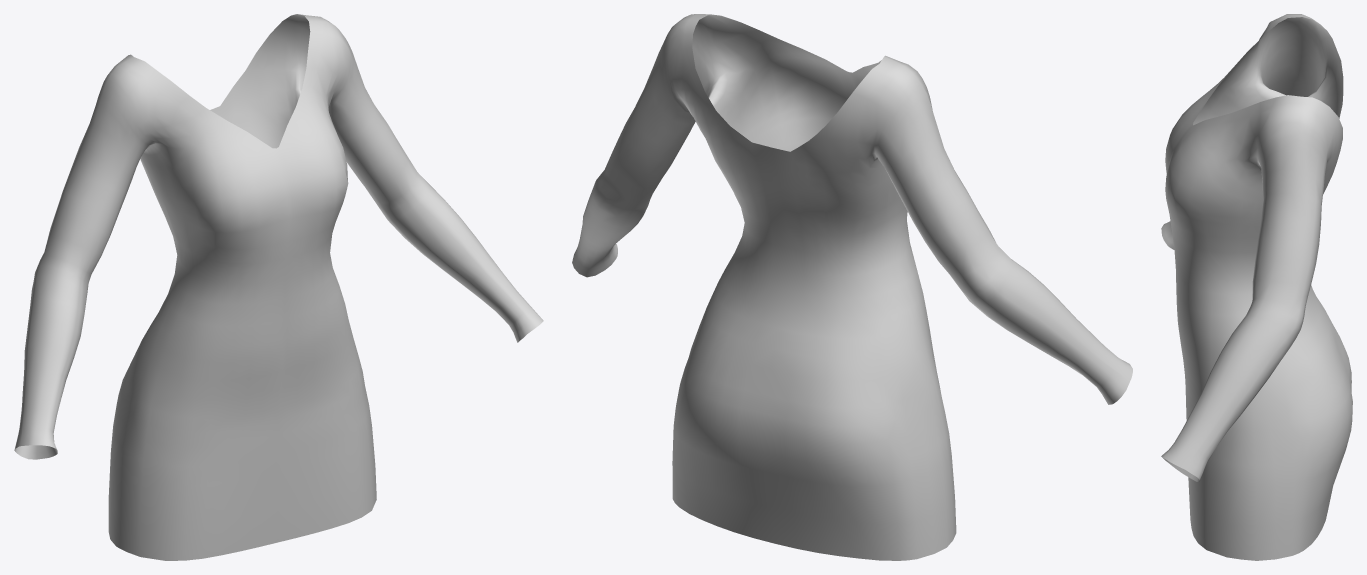
Rendered from F_BBB_CUSTOM_D001.glb.
The picture shows the model from 3 angles, left to right: view 1: azimuth 30°, elevation 25°; view 2: azimuth 150°, elevation 25°; view 3: azimuth 270°, elevation 25°; orthographic projection. The views are drawn at different scales.
Visible parts, largest first — view 1: F_BBB_CUSTOM_D001; view 2: F_BBB_CUSTOM_D001; view 3: F_BBB_CUSTOM_D001.
Boxes of the visible parts, x1,y1,x2,y2 form: F_BBB_CUSTOM_D001: [14, 14, 543, 560]; F_BBB_CUSTOM_D001: [572, 14, 1132, 560]; F_BBB_CUSTOM_D001: [1161, 14, 1352, 560].
Size of the model in its own units: 74.05 by 62.96 by 24.56.
Materials: 1 (1 with a texture image).
